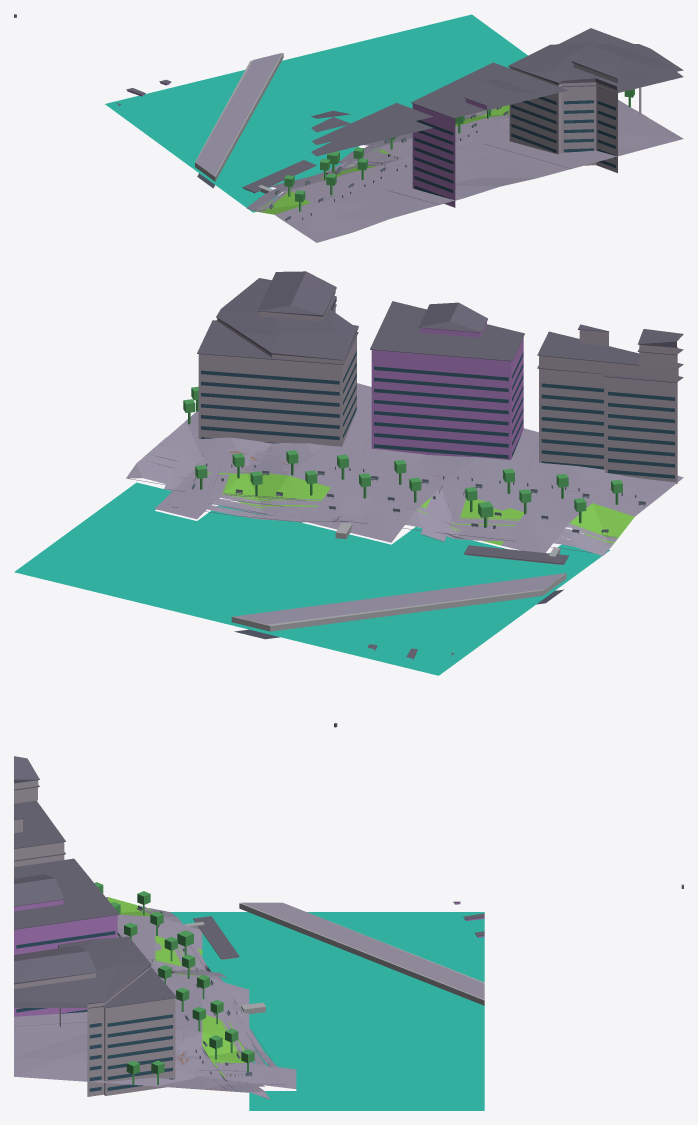
3 views of the same model, one above another, from view 1: azimuth 30°, elevation 25°; view 2: azimuth 150°, elevation 25°; view 3: azimuth 270°, elevation 25° (orthographic). The views are drawn at different scales.
Parts seen in each view (by area): view 1: compiled-chunk; view 2: compiled-chunk; view 3: compiled-chunk.
Boxes of the visible parts, x1,y1,x2,y2 form: compiled-chunk: (14, 14, 683, 242); compiled-chunk: (14, 271, 683, 727); compiled-chunk: (14, 756, 683, 1110).
Bounding box in the file's own units: 122 × 45.4 × 171.
